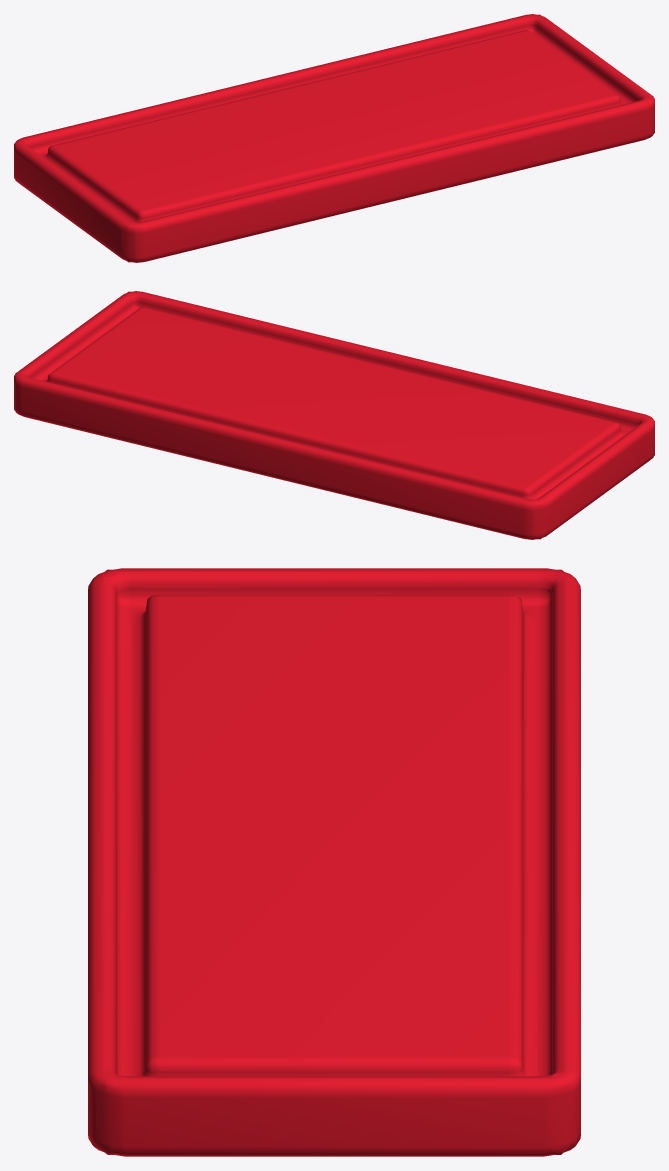
Rendered from Buton.fbx.
The picture shows the model from 3 angles, top to bottom: view 1: azimuth 30°, elevation 25°; view 2: azimuth 150°, elevation 25°; view 3: azimuth 270°, elevation 25°; orthographic projection. The views are drawn at different scales.
Visible parts, largest first — view 1: Cube.001; view 2: Cube.001; view 3: Cube.001.
Part boxes in pixels (x1,y1,x2,y2): Cube.001: (14, 14, 654, 262); Cube.001: (14, 291, 654, 539); Cube.001: (88, 568, 580, 1156).
Size of the model in its own units: 962 by 64.53 by 386.
